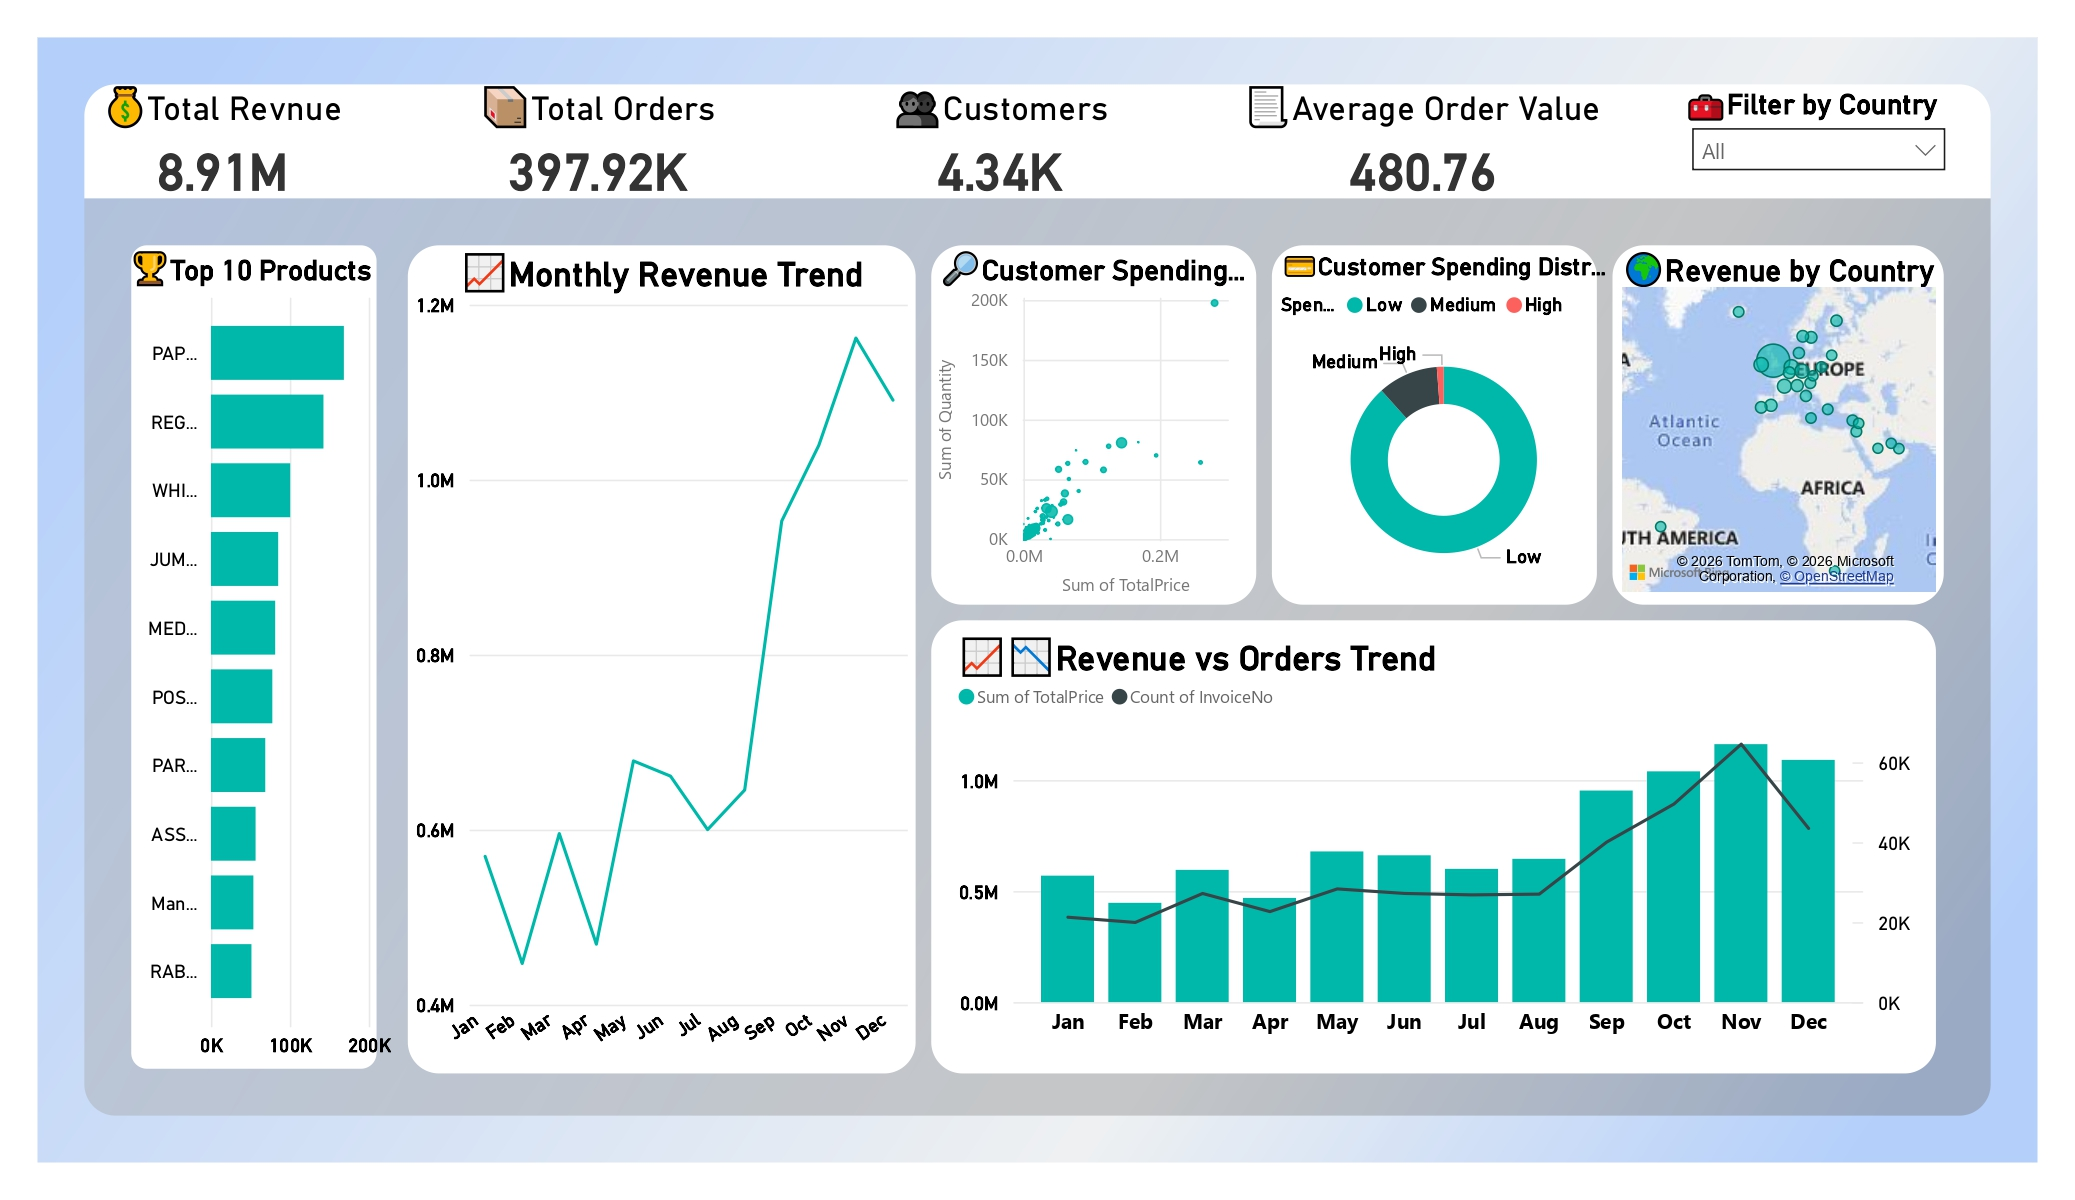

This screenshot's page, from the dashboard's own definition file:
{"tool":"powerbi","page":{"name":"page 1","canvas":[1280,720],"ordinal":0},"visuals":[{"type":"clusteredBarChart","title":"🏆Top 10 Products","fields":{"Category":["Online Retail.Description"],"Y":["Sum(Online Retail.TotalPrice)"]},"box":[54.3,132.9,177.1,525.7],"z":0},{"type":"donutChart","title":"💳Customer Spending Distribution","fields":{"Category":["Online Retail.Spending Category"],"Y":["CountNonNull(Online Retail.CustomerID)"]},"box":[790.8,133,218.3,228.4],"z":1000},{"type":"map","title":"🌍Revenue by Country","fields":{"Category":["Online Retail.Country"],"Size":["Sum(Online Retail.TotalPrice)"]},"box":[1009,133,211,229],"z":2000},{"type":"lineChart","title":"📈Monthly Revenue Trend","fields":{"Category":["Online Retail.Month"],"Y":["Sum(Online Retail.TotalPrice)"]},"box":[237,133,325,529],"z":3000},{"type":"scatterChart","title":"🔎Customer Spending Behaviour","fields":{"Category":["Online Retail.CustomerID"],"Size":["CountNonNull(Online Retail.CustomerID)"],"X":["Sum(Online Retail.TotalPrice)"],"Y":["Sum(Online Retail.Quantity)"]},"box":[572,133,207,229],"z":4000},{"type":"card","title":"💰Total Revnue","fields":{"Values":["Sum(Online Retail.TotalPrice)"]},"box":[30.4,27.5,176.4,88.2],"z":5000},{"type":"card","title":"📦Total Orders","fields":{"Values":["CountNonNull(Online Retail.InvoiceNo)"]},"box":[270.4,27.5,176.4,88.2],"z":6000},{"type":"card","title":"👥Customers","fields":{"Values":["Count(Online Retail.CustomerID)"]},"box":[527.7,27.5,176.4,88.2],"z":7000},{"type":"card","title":"📃Average Order Value","fields":{"Values":["Online Retail.Average Order Value"]},"box":[764.3,27.1,244.3,88.6],"z":8000},{"type":"slicer","title":"🧰Filter by Country","fields":{"Values":["Online Retail.Country"]},"box":[1048.6,27.1,182.9,70],"z":9000},{"type":"lineClusteredColumnComboChart","title":"📈📉Revenue vs Orders Trend","fields":{"Category":["Online Retail.Month"],"Y":["Sum(Online Retail.TotalPrice)"],"Y2":["CountNonNull(Online Retail.InvoiceNo)"]},"box":[584.1,378.8,620.2,268.9],"z":10000}]}

Visuals, with their boxes on the page's 1280x720 design canvas (x1, y1, x2, y2). These are canvas units, not pixel positions in the 2075x1200 screenshot, which may show the page scaled, cropped or inside an application window:
"🏆Top 10 Products" clusteredBarChart: <box>54,133,231,659</box>
"💳Customer Spending Distribution" donutChart: <box>791,133,1009,361</box>
"🌍Revenue by Country" map: <box>1009,133,1220,362</box>
"📈Monthly Revenue Trend" lineChart: <box>237,133,562,662</box>
"🔎Customer Spending Behaviour" scatterChart: <box>572,133,779,362</box>
"💰Total Revnue" card: <box>30,28,207,116</box>
"📦Total Orders" card: <box>270,28,447,116</box>
"👥Customers" card: <box>528,28,704,116</box>
"📃Average Order Value" card: <box>764,27,1009,116</box>
"🧰Filter by Country" slicer: <box>1049,27,1232,97</box>
"📈📉Revenue vs Orders Trend" lineClusteredColumnComboChart: <box>584,379,1204,648</box>
